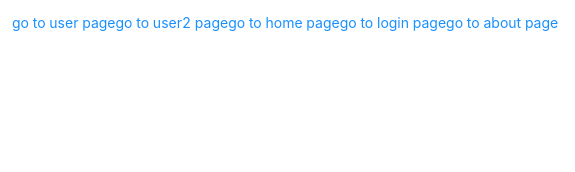
AuthRouter, PrivateRoute and PublicRoute › should be redirected to "privateKickTo" path of AuthRouter if PrivateRoute isn't specified "kickTo"
The width and height of the screenshot is (575, 172).
Click the link "go to user2 page" at (172, 22), box top-left (116, 14), bottom-right (228, 31)
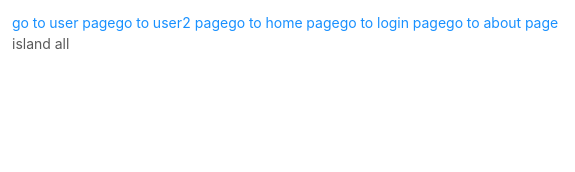
Now the text "island all" is shown, box top-left (12, 35), bottom-right (69, 52)
